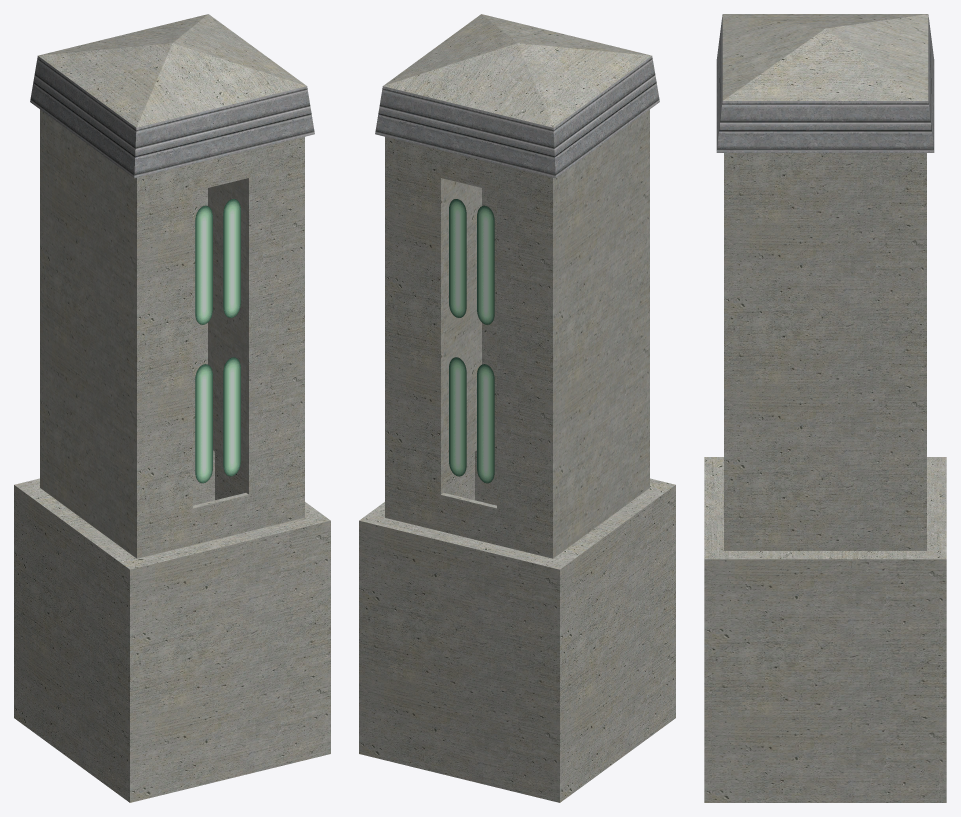
The model's file is thm_corl_imprv_column_s02_l0.fbx.
The picture shows the model from 3 angles, left to right: view 1: azimuth 30°, elevation 25°; view 2: azimuth 150°, elevation 25°; view 3: azimuth 270°, elevation 25°; orthographic projection. The views are drawn at different scales.
Parts seen in each view (by area): view 1: mesh_node; view 2: mesh_node; view 3: mesh_node.
Part boxes in pixels (bbox=[...]): mesh_node: bbox=[14, 14, 330, 802]; mesh_node: bbox=[359, 14, 675, 802]; mesh_node: bbox=[704, 14, 946, 802].
Bounding box in the file's own units: 1.79 × 5.9 × 1.79.
